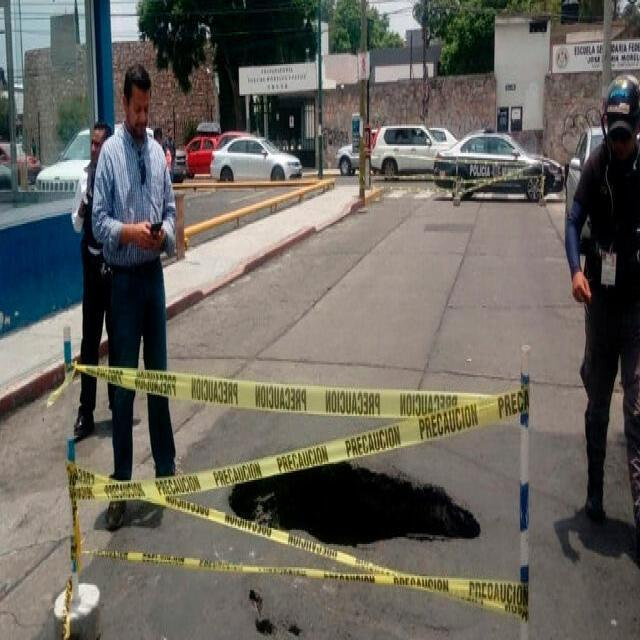pothole: (222, 429, 498, 589)
